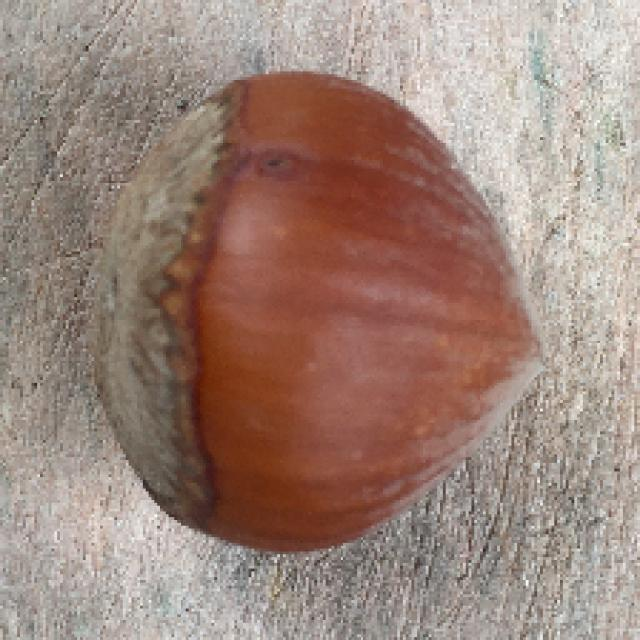qualityHazelnut: (84, 66, 552, 558)
